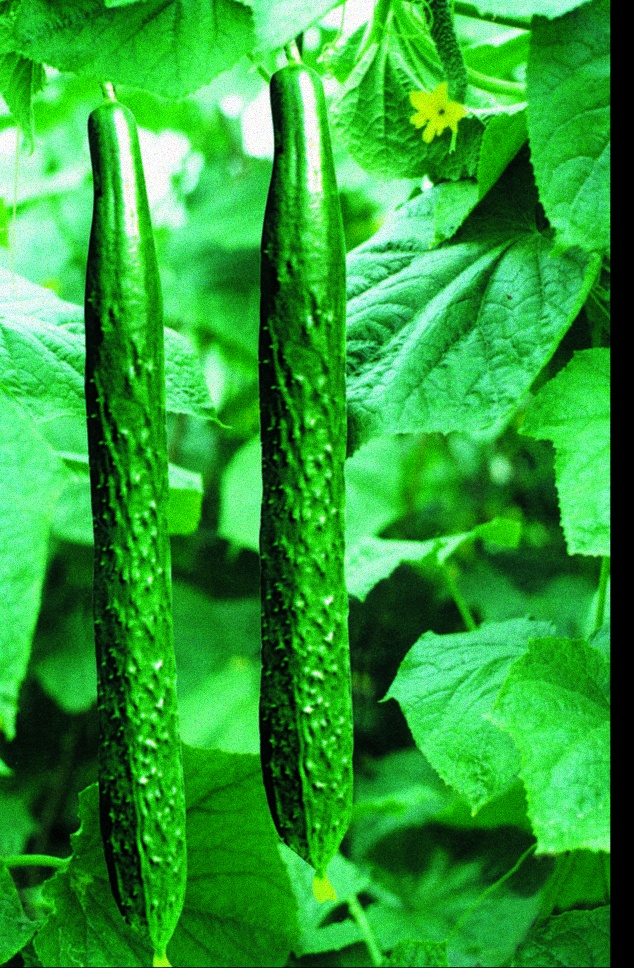cucumber: (85, 104, 195, 959), (257, 64, 363, 880)
cucumber_plant: (366, 23, 606, 414)
